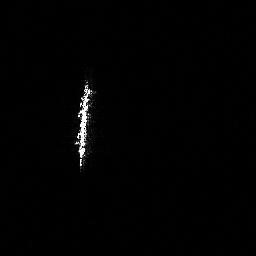ship: (71, 75, 97, 173)
